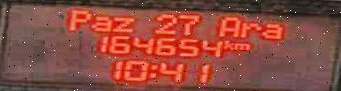0: (123, 58, 147, 81)
1: (195, 63, 211, 84), (111, 58, 123, 81), (99, 33, 109, 52)
2: (153, 11, 177, 34)
4: (158, 61, 187, 81), (200, 38, 221, 58), (131, 35, 153, 53)
5: (177, 36, 197, 56)
6: (108, 34, 130, 53), (154, 36, 174, 55)
7: (177, 13, 200, 34)
X: (64, 7, 90, 30), (216, 16, 240, 36), (111, 15, 134, 32), (239, 21, 261, 37), (91, 13, 110, 31), (262, 22, 282, 39), (233, 41, 250, 49), (147, 63, 155, 78), (221, 39, 232, 48)
